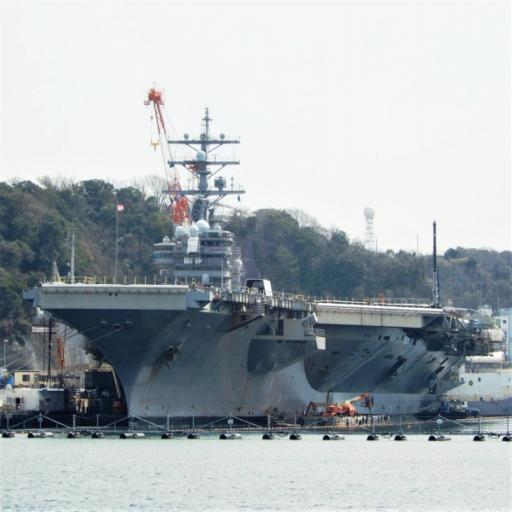Portanaves: (34, 97, 489, 435)
